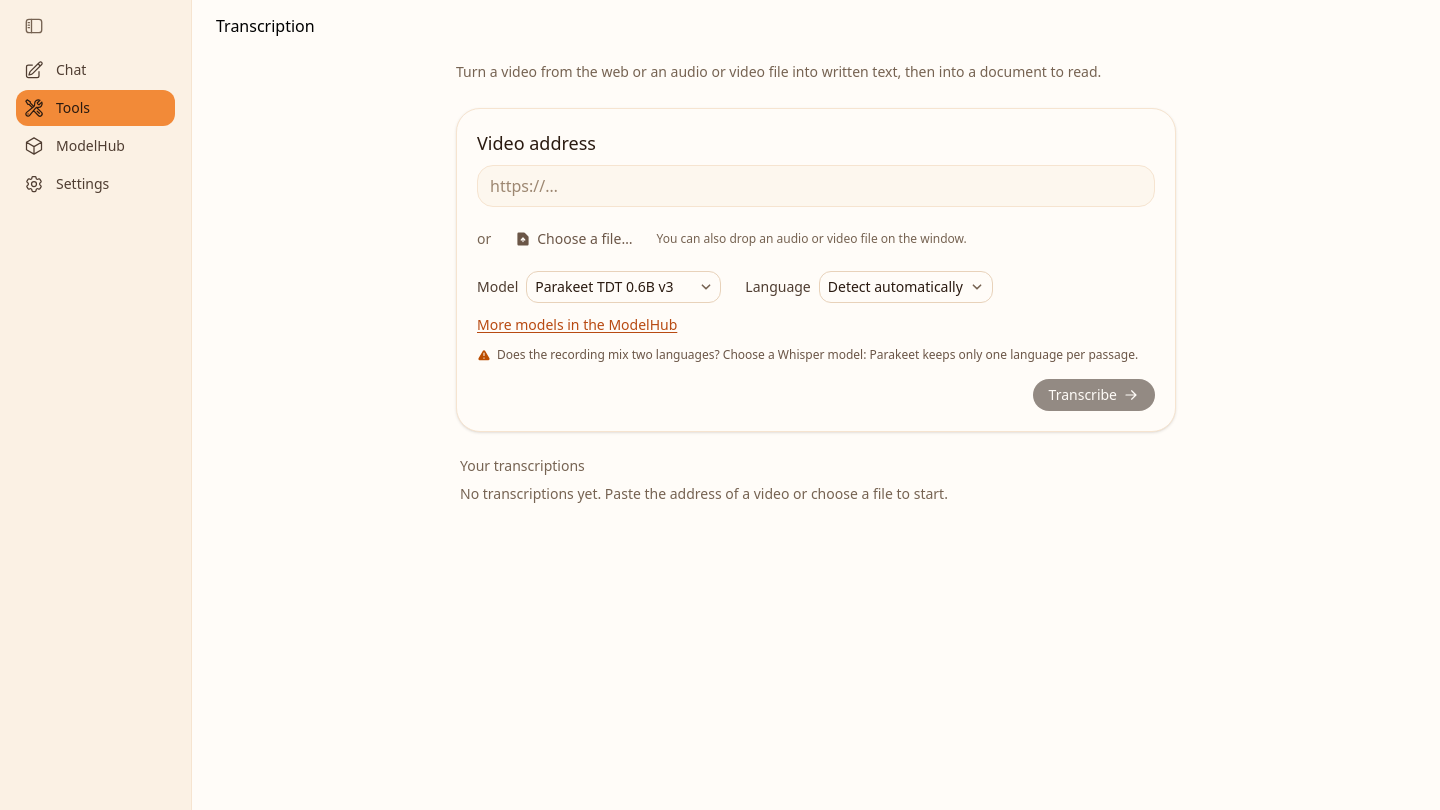
it: Transcription home › refuses a file the engine can't read, with the reason
The width and height of the screenshot is (1440, 810).
Expected: the form with test id "transcription-form" is shown, [456,108,1176,432]
Step 1. Click the button "Choose a file…" → coordinates (574, 239), box [503,223,644,255]
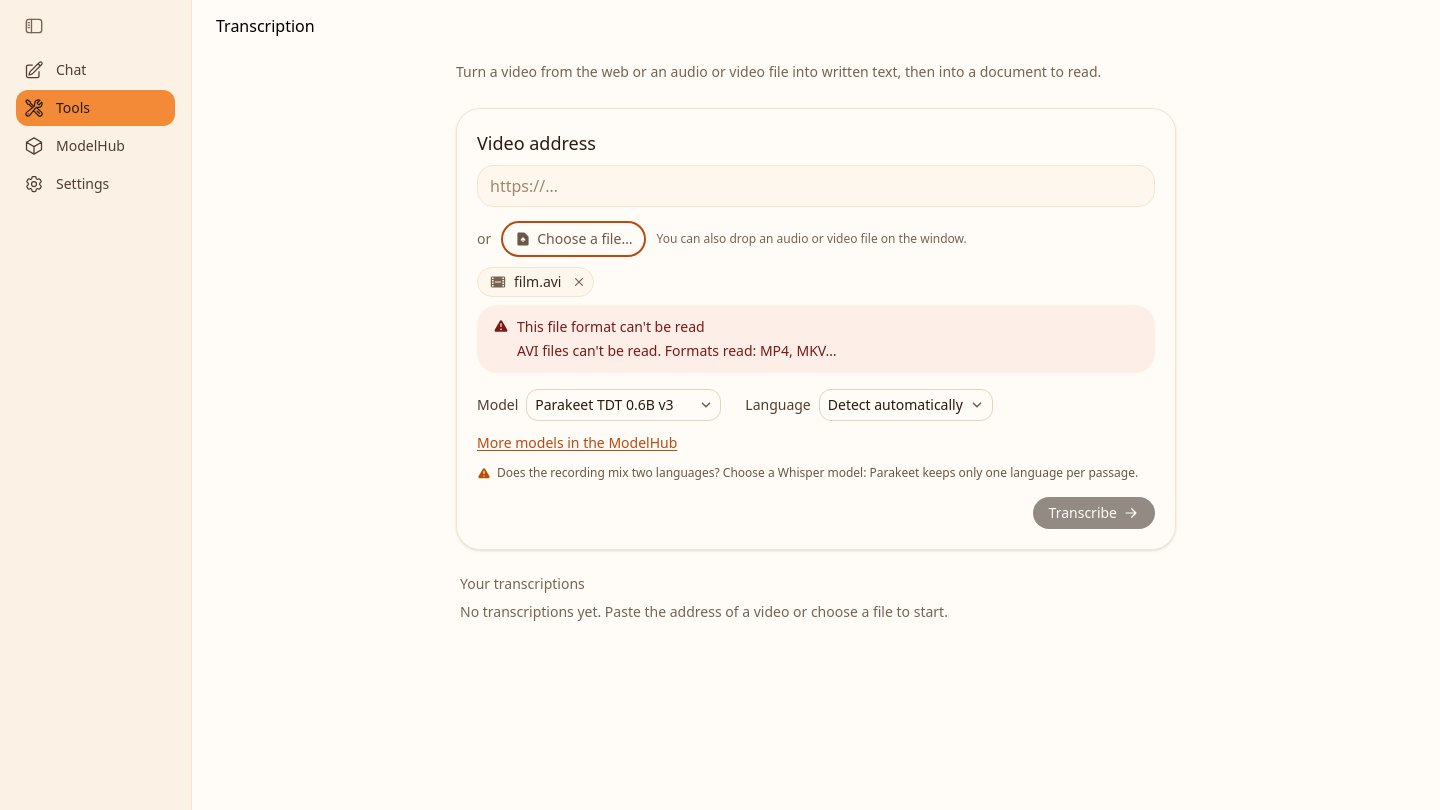
Expected: the button "Transcribe" is disabled, [1033,497,1155,529]
Now the message with test id "transcription-error" shows "This file format can't be read", box [517,317,705,336]
Now the message with test id "transcription-error" shows "AVI files can't be read.", box [517,341,837,360]
# Retiré : plus d'erreur.
Step 2. Click the button named "Remove film.avi" → coordinates (580, 282), box [570,272,590,292]
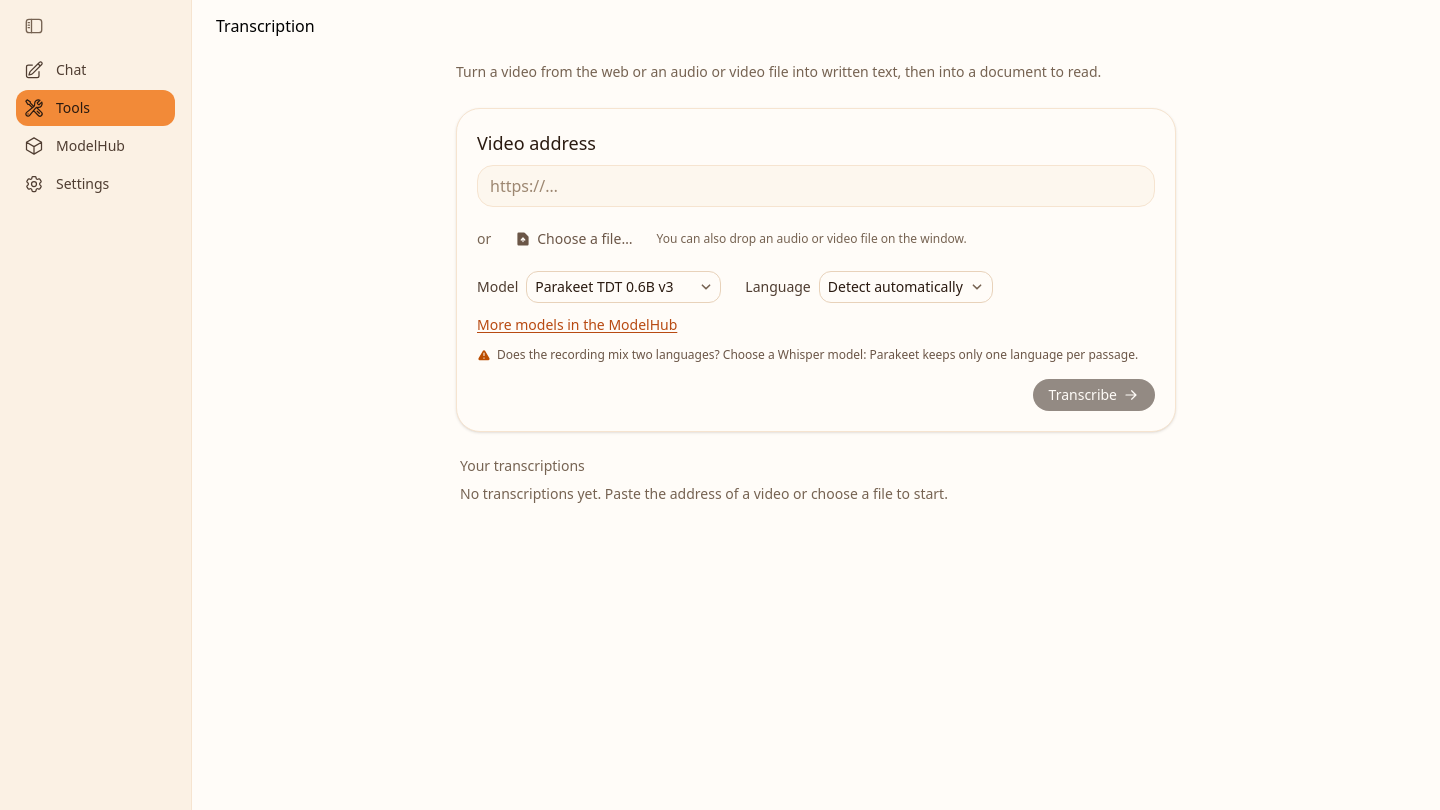
Now the message with test id "transcription-error" is gone
